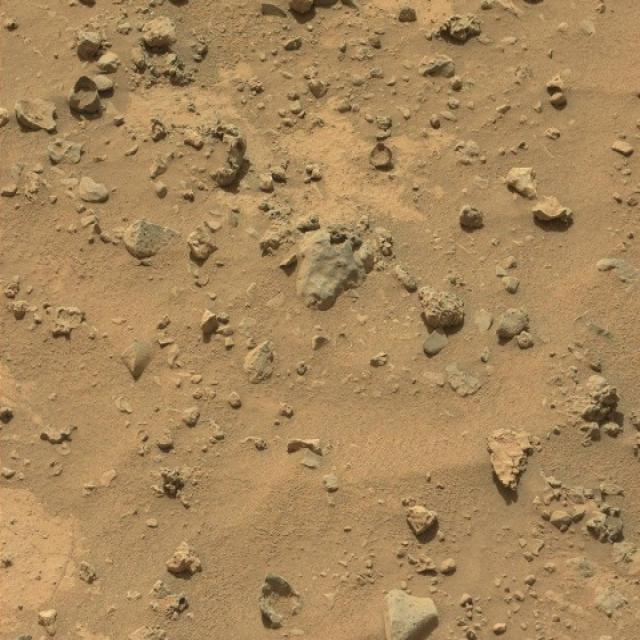mars-rocks: (296, 229, 366, 310), (489, 429, 535, 490), (385, 591, 439, 640), (419, 287, 465, 330), (533, 197, 575, 230), (142, 15, 176, 48)
